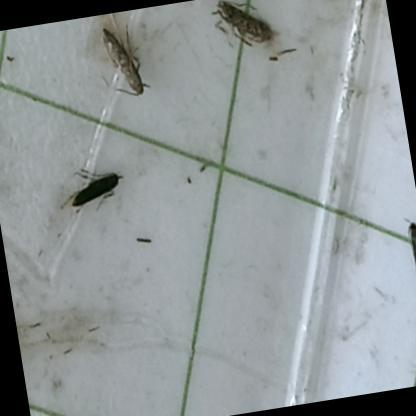prays_oleae: (52, 145, 136, 247), (82, 8, 156, 120), (194, 0, 288, 83), (394, 213, 416, 335)
